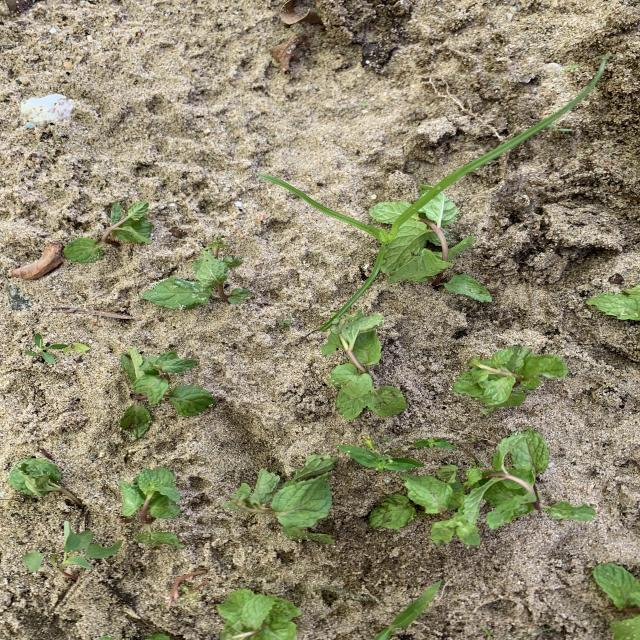crop: (371, 428, 595, 546), (380, 192, 492, 302), (223, 454, 338, 538), (322, 312, 406, 419), (121, 347, 215, 434), (452, 346, 567, 413), (143, 253, 249, 308), (64, 201, 152, 262), (121, 468, 181, 547), (218, 590, 299, 639), (593, 563, 639, 639), (587, 285, 639, 319), (370, 202, 409, 223)
weed: (260, 70, 601, 319), (373, 582, 440, 639), (63, 524, 122, 567), (338, 445, 423, 471), (25, 333, 66, 362), (203, 235, 230, 253), (413, 438, 454, 449), (278, 317, 291, 327), (482, 626, 492, 638), (364, 438, 375, 448)
